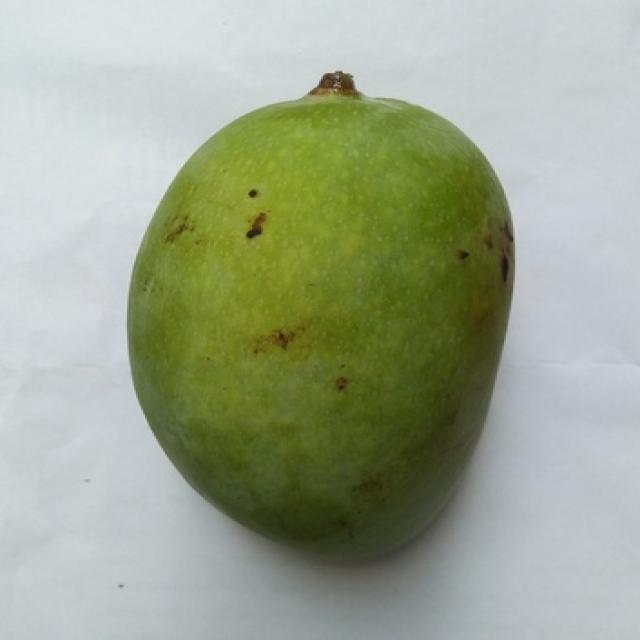Mango: (127, 73, 513, 554)
